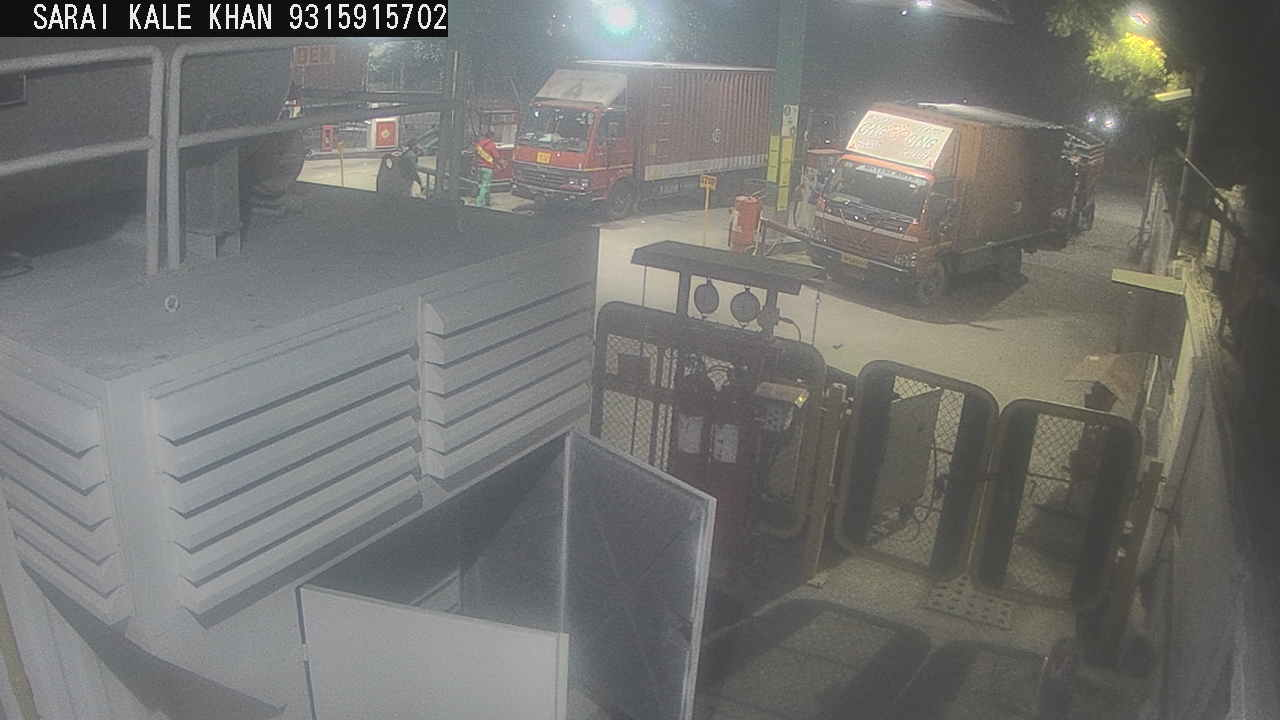HMV: (793, 85, 1071, 318), (501, 47, 788, 228), (271, 30, 378, 147), (1034, 107, 1116, 258), (794, 73, 897, 160), (333, 78, 447, 155)
Others: (465, 117, 501, 215)
Others Other: (693, 162, 720, 253), (331, 128, 352, 192)
